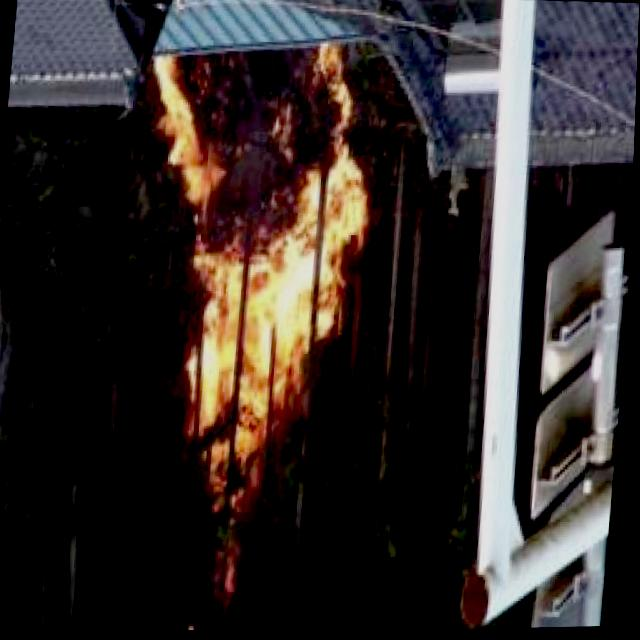helmet: (119, 61, 380, 516)
